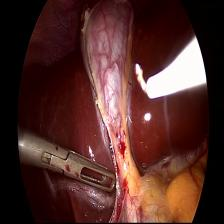Grasper: (47, 146, 117, 198)
Hook: (134, 32, 208, 106)
